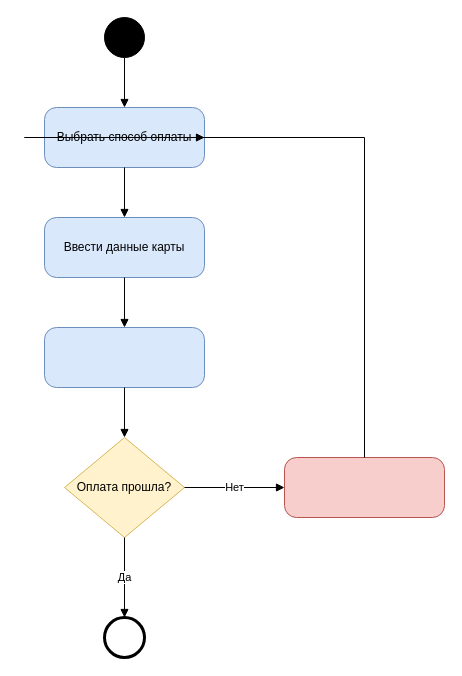
Image size: 462x676. Some labels were removed from this diagram. The centre of each missing label's shape, as x and y in pixels:
"Отправить платёж" goes at point 124,357.
"Показать ошибку" goes at point 364,487.
